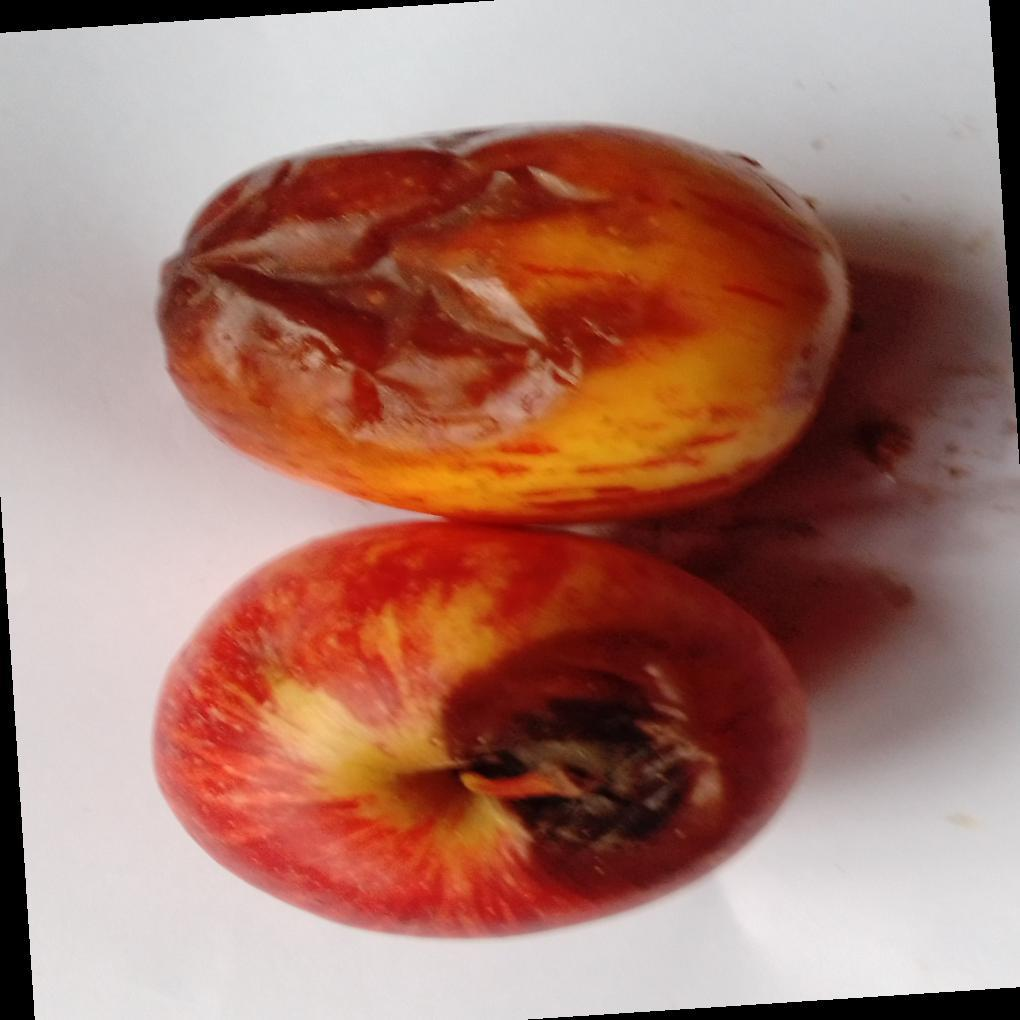FreshOrange: (147, 124, 853, 946)
